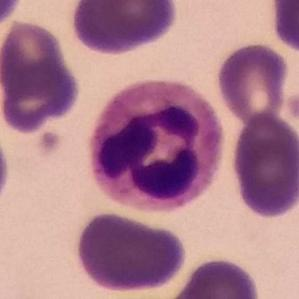Neutrophil: (82, 74, 227, 221)
RBC: (72, 208, 188, 295), (227, 110, 299, 221), (0, 51, 84, 134), (214, 40, 291, 126), (70, 0, 180, 56), (0, 17, 71, 103), (164, 254, 264, 299), (267, 0, 299, 56), (0, 0, 25, 31)
